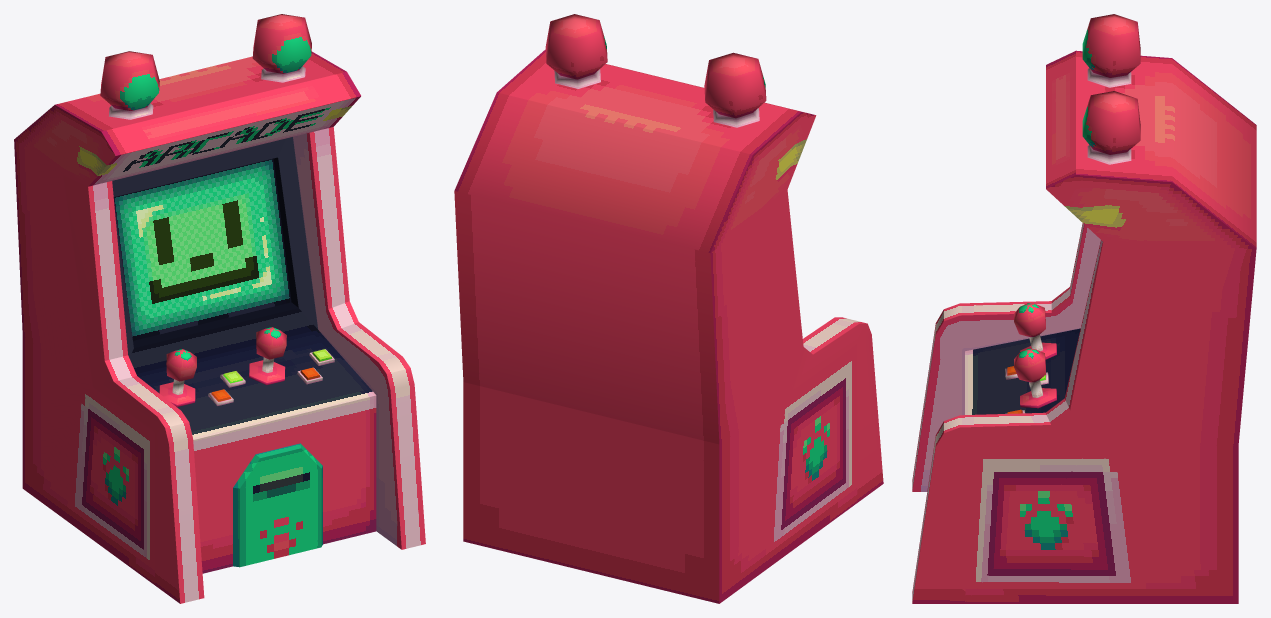
Rendered from kawaiiArcade.glb.
The picture shows the model from 3 angles, left to right: view 1: azimuth 30°, elevation 25°; view 2: azimuth 150°, elevation 25°; view 3: azimuth 270°, elevation 25°; orthographic projection. The views are drawn at different scales.
Parts seen in each view (by area): view 1: arcade_machine; view 2: arcade_machine; view 3: arcade_machine.
Boxes of the visible parts, bbox=[...] form: arcade_machine: bbox=[14, 14, 425, 603]; arcade_machine: bbox=[454, 14, 883, 603]; arcade_machine: bbox=[912, 14, 1256, 603].
Bounding box in the file's own units: 0.0189 × 0.0344 × 0.0221.
1 material, 1 textured.
